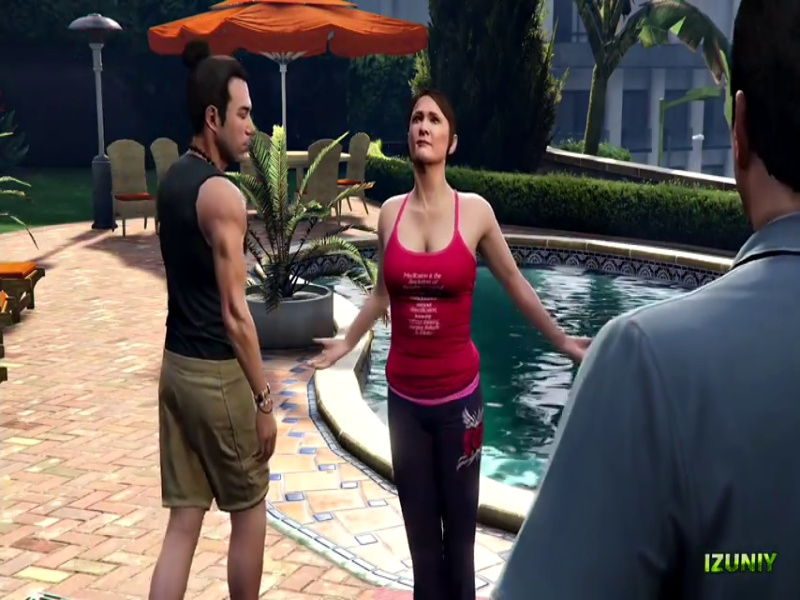human: (326, 78, 558, 599)
